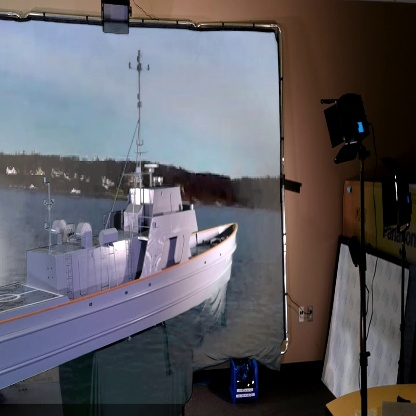YP689: (0, 55, 239, 394)
